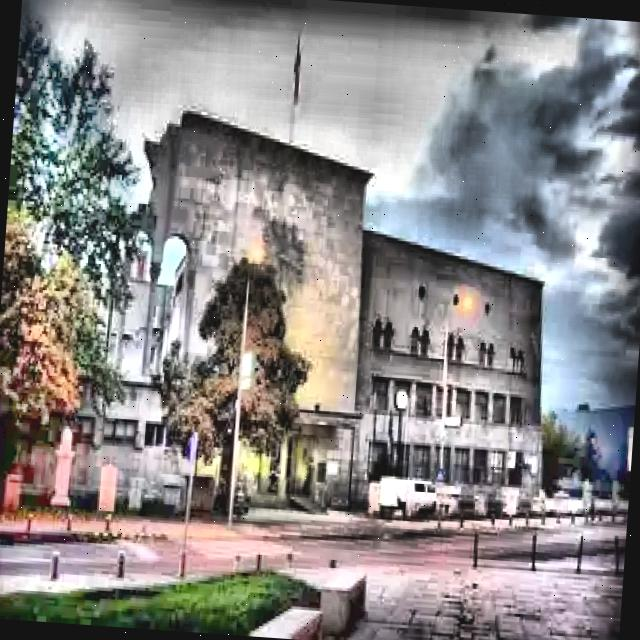old railway: (86, 98, 576, 535)
